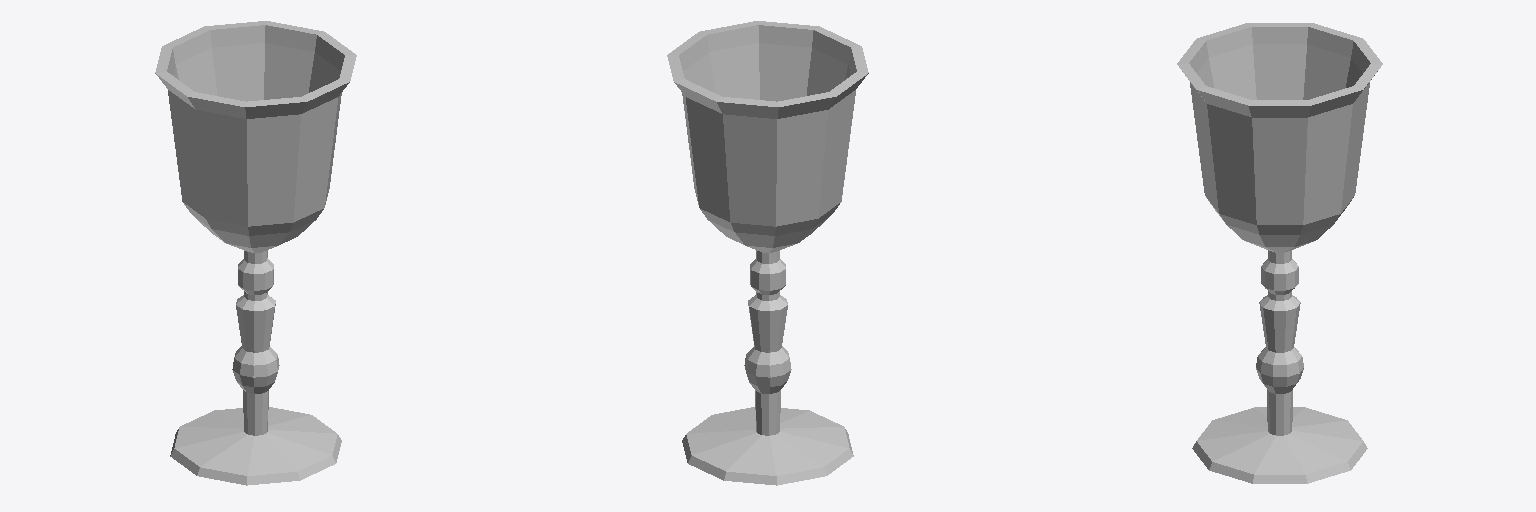
File: Chalice.obj
The picture shows the model from 3 angles: view 1: azimuth 30°, elevation 25°; view 2: azimuth 150°, elevation 25°; view 3: azimuth 270°, elevation 25°; orthographic projection.
Parts seen in each view (by area): view 1: Chalice_Cylinder.070; view 2: Chalice_Cylinder.070; view 3: Chalice_Cylinder.070.
Boxes of the visible parts, x1,y1,x2,y2 form: Chalice_Cylinder.070: [155, 21, 356, 485]; Chalice_Cylinder.070: [667, 21, 868, 485]; Chalice_Cylinder.070: [1177, 23, 1382, 483].
Size of the model in its own units: 0.1184 by 0.2567 by 0.1245.